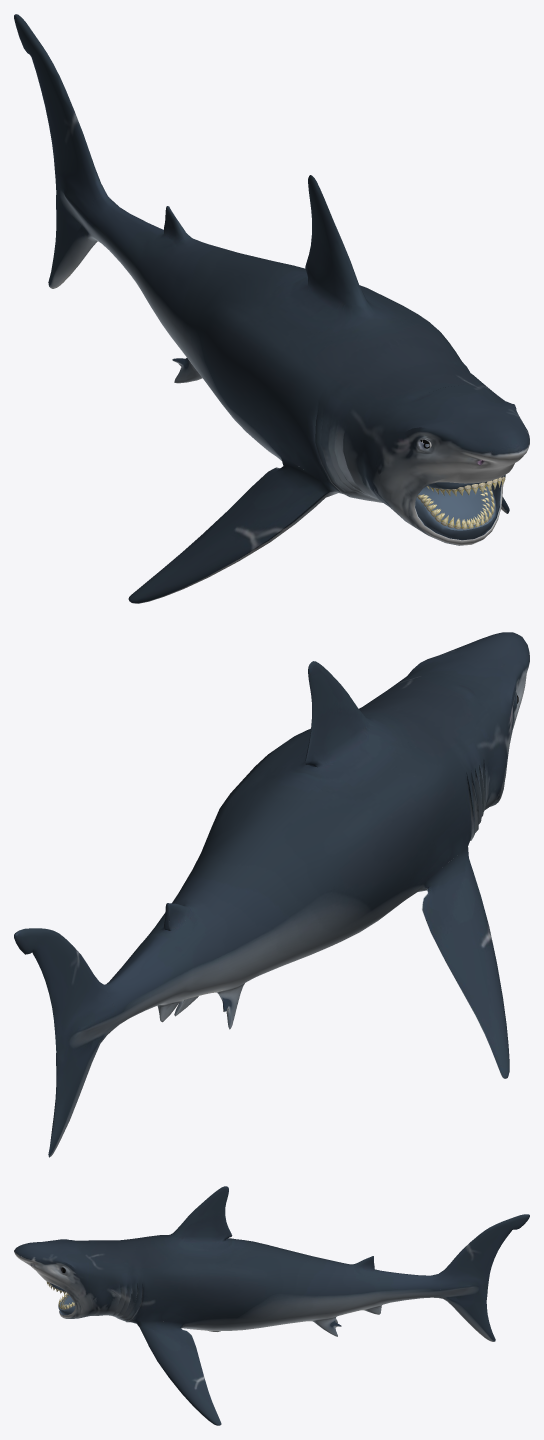
The model's file is helicoprion.glb.
3 views of the same model, one above another, from view 1: azimuth 30°, elevation 25°; view 2: azimuth 150°, elevation 25°; view 3: azimuth 270°, elevation 25° (orthographic). The views are drawn at different scales.
Visible parts, largest first — view 1: Object_2; view 2: Object_2; view 3: Object_2.
Boxes of the visible parts, left/top/right/bottom form: Object_2: left=14, top=14, right=529, bottom=603; Object_2: left=14, top=632, right=529, bottom=1157; Object_2: left=14, top=1186, right=529, bottom=1425.
Size of the model in its own units: 2.16 by 2.06 by 5.
Materials: 6 (6 with a texture image).
